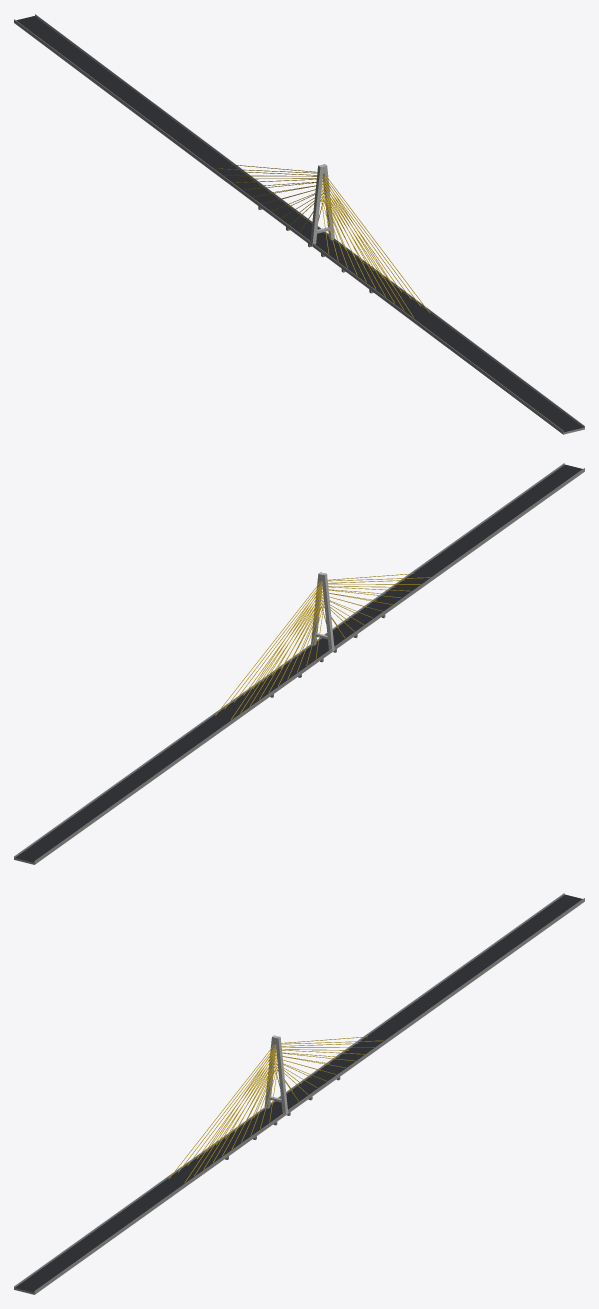
File: jembatan-siak-4-lod0.glb
The picture shows the model from 3 angles, top to bottom: view 1: azimuth 30°, elevation 25°; view 2: azimuth 150°, elevation 25°; view 3: azimuth 330°, elevation 25°; orthographic projection. The views are drawn at different scales.
Visible parts, largest first — view 1: jembatan-siak-4_LOD0; view 2: jembatan-siak-4_LOD0; view 3: jembatan-siak-4_LOD0.
Boxes of the visible parts, x1,y1,x2,y2 form: jembatan-siak-4_LOD0: (14,14,584,434); jembatan-siak-4_LOD0: (14,463,584,864); jembatan-siak-4_LOD0: (14,893,584,1294).
Size of the model in its own units: 27 by 69.22 by 830.
